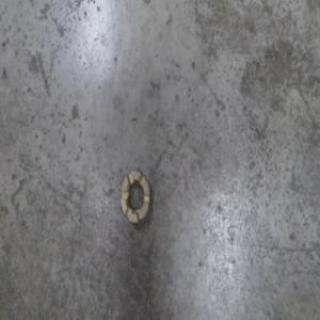Nuttrack_idkeyframe: (119, 166, 153, 228)
